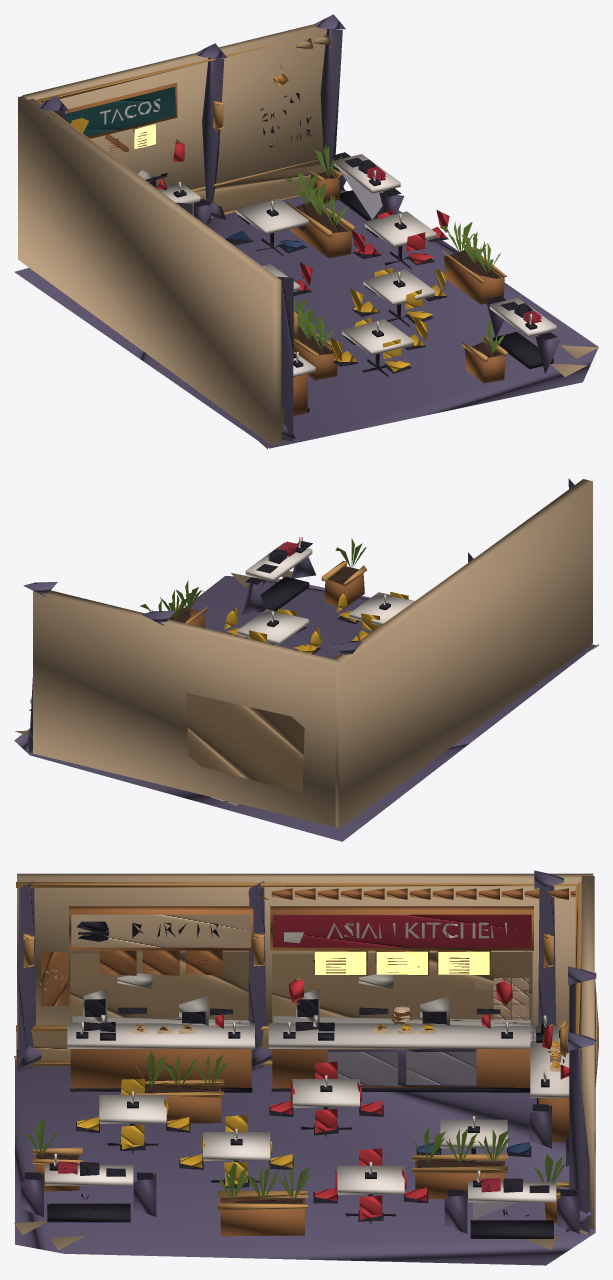
The picture shows the model from 3 angles, top to bottom: view 1: azimuth 30°, elevation 25°; view 2: azimuth 150°, elevation 25°; view 3: azimuth 270°, elevation 25°; orthographic projection. The views are drawn at different scales.
Size of the model in its own units: 10.07 by 4.89 by 12.71.
